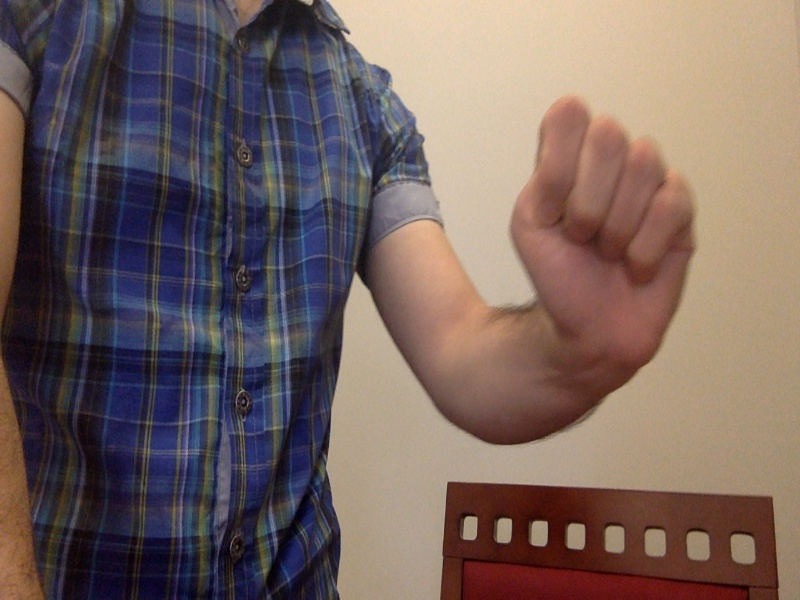0-hand: (507, 93, 704, 367)
